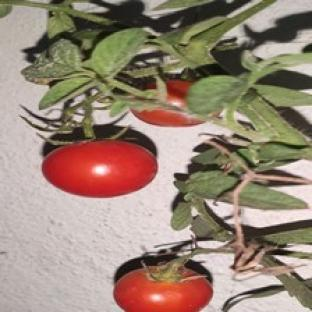Tomato: (42, 141, 157, 197), (113, 268, 213, 311), (131, 109, 203, 126)
